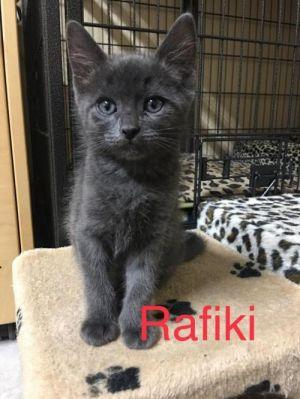rblue: (50, 1, 218, 183)
